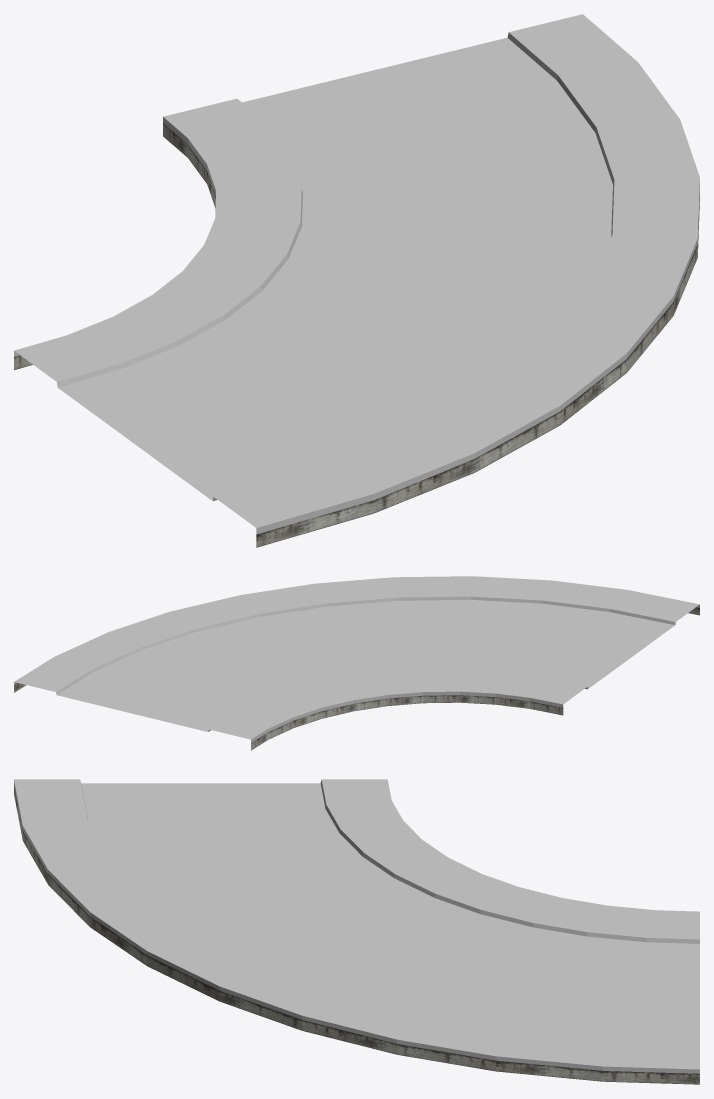
Rendered from Road_2_lines_small_90.FBX.
3 views of the same model, one above another, from view 1: azimuth 30°, elevation 25°; view 2: azimuth 150°, elevation 25°; view 3: azimuth 270°, elevation 25° (orthographic). The views are drawn at different scales.
Visible parts, largest first — view 1: Road_2_lines_small_90; view 2: Road_2_lines_small_90; view 3: Road_2_lines_small_90.
Boxes of the visible parts, x1=… form: Road_2_lines_small_90: x1=14, y1=14, x2=699, y2=547; Road_2_lines_small_90: x1=14, y1=576, x2=699, y2=750; Road_2_lines_small_90: x1=14, y1=779, x2=699, y2=1084.
Bounding box in the file's own units: 1880 × 45.85 × 1879.
